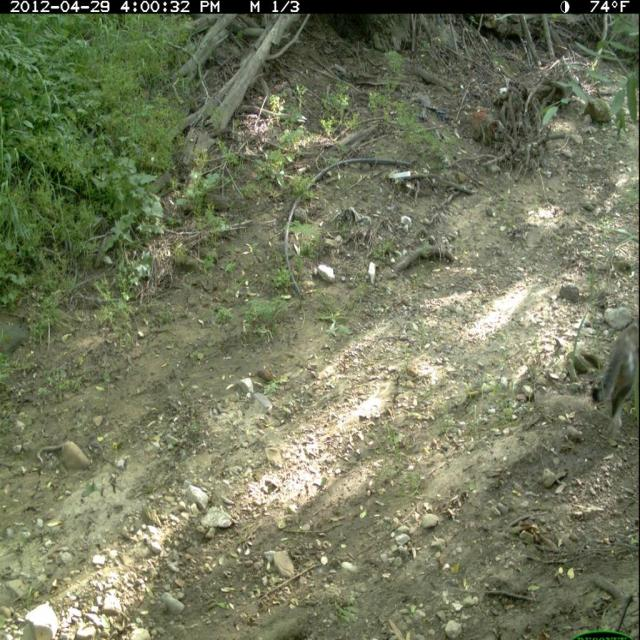cat: (587, 321, 640, 434)
